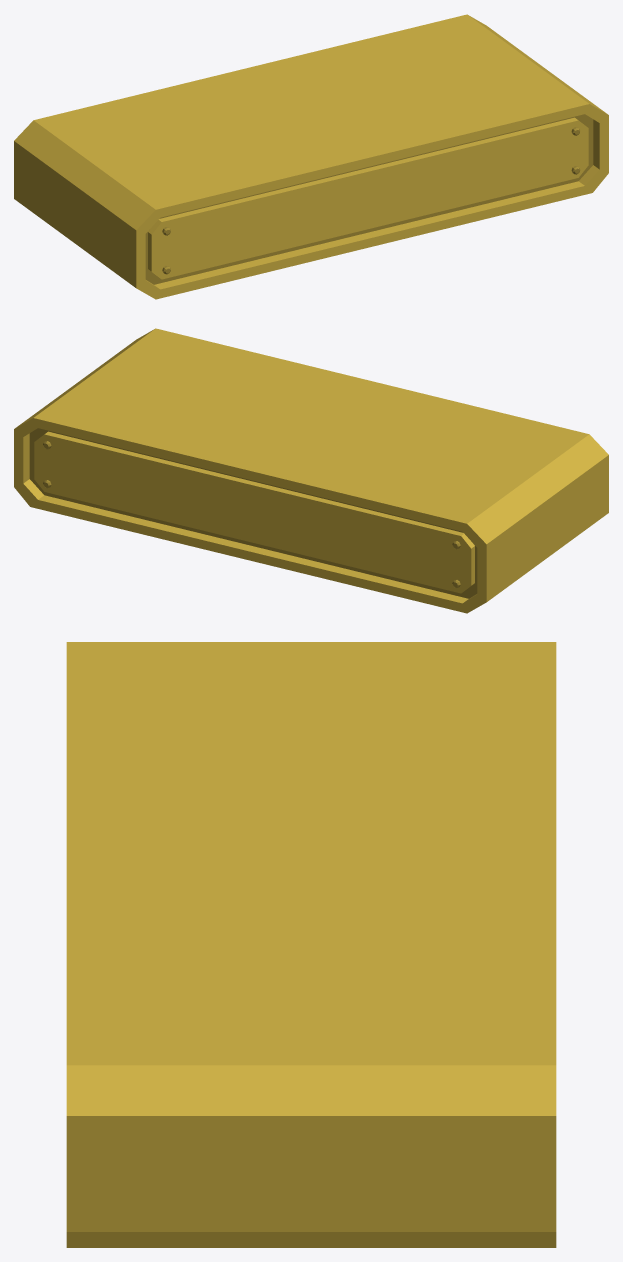
File: MovingPlatform_Long.glb
3 renders of one model, top to bottom at view 1: azimuth 30°, elevation 25°; view 2: azimuth 150°, elevation 25°; view 3: azimuth 270°, elevation 25°, orthographic. The views are drawn at different scales.
Visible parts, largest first — view 1: MovingPlatform_Long; view 2: MovingPlatform_Long; view 3: MovingPlatform_Long.
Part boxes in pixels (<box>): MovingPlatform_Long: <box>14,14,608,299</box>; MovingPlatform_Long: <box>14,328,608,613</box>; MovingPlatform_Long: <box>66,642,556,1247</box>.
Bounding box in the file's own units: 7.29 × 1.32 × 3.27.
